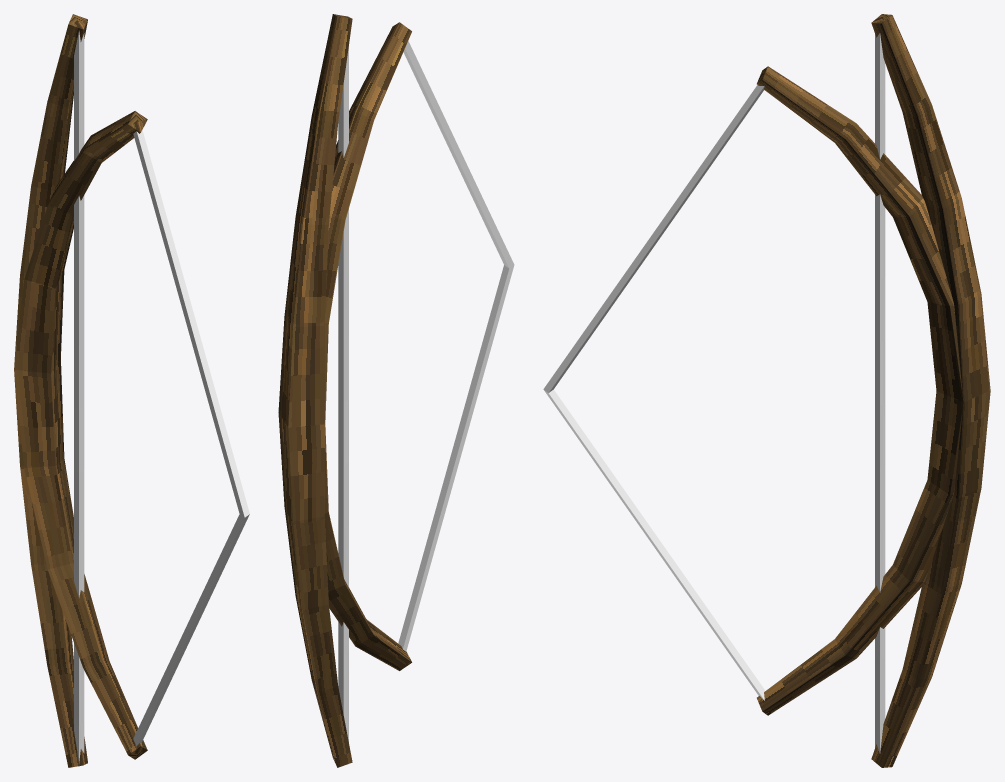
Rendered from Bows.glb.
3 renders of one model, left to right at view 1: azimuth 30°, elevation 25°; view 2: azimuth 150°, elevation 25°; view 3: azimuth 270°, elevation 25°, orthographic.
Visible parts, largest first — view 1: BowTensed, BowRelaxed, StringTensed, StringRelaxed; view 2: BowRelaxed, BowTensed, StringTensed, StringRelaxed; view 3: BowRelaxed, BowTensed, StringTensed, StringRelaxed.
Boxes of the visible parts, <box> form: BowTensed: <box>14,111,147,759</box>; BowRelaxed: <box>14,14,87,767</box>; StringTensed: <box>133,130,249,746</box>; StringRelaxed: <box>74,31,84,766</box>; BowRelaxed: <box>278,14,352,767</box>; BowTensed: <box>278,22,411,670</box>; StringTensed: <box>398,41,514,651</box>; StringRelaxed: <box>338,46,348,741</box>; BowRelaxed: <box>871,14,990,767</box>; BowTensed: <box>757,66,973,715</box>; StringTensed: <box>543,85,765,700</box>; StringRelaxed: <box>875,33,885,753</box>.
Bounding box in the file's own units: 0.09 × 1.38 × 0.743.
Materials: 1 (1 with a texture image).
